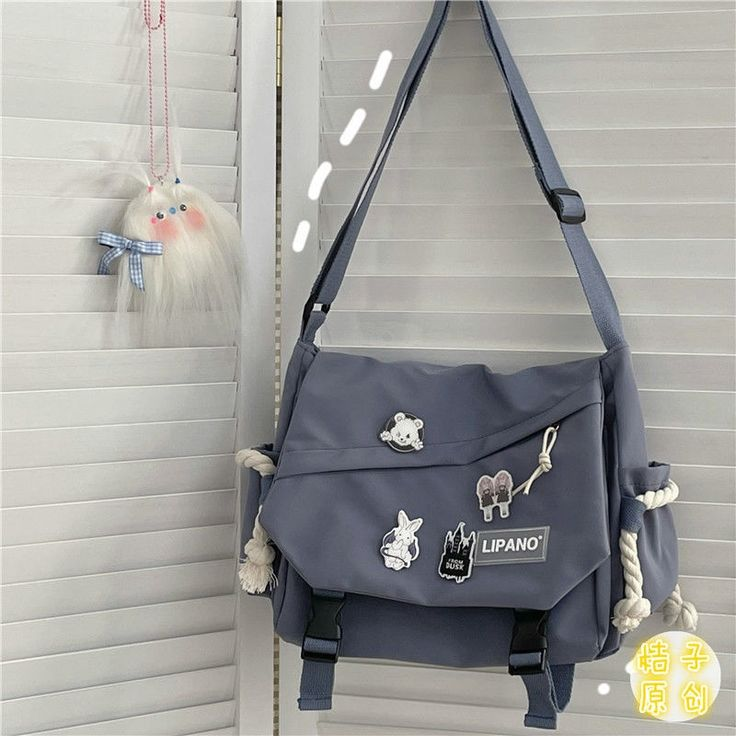nylon: (242, 341, 680, 730)
